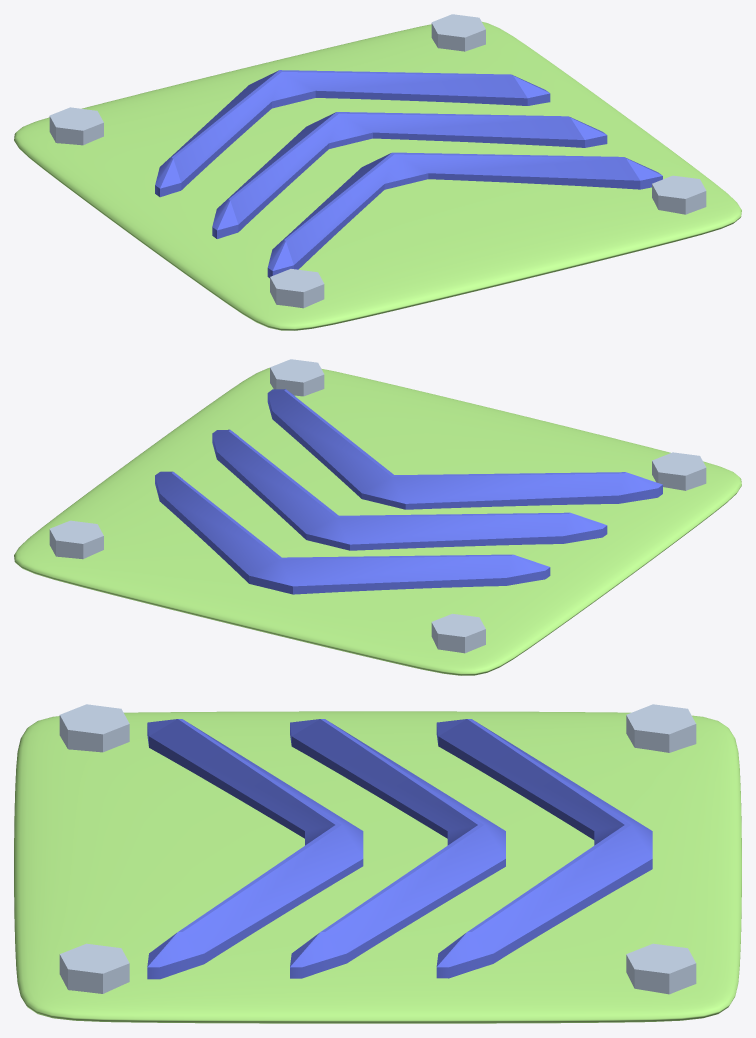
The model's file is BoostPad.fbx.
3 renders of one model, top to bottom at view 1: azimuth 30°, elevation 25°; view 2: azimuth 150°, elevation 25°; view 3: azimuth 270°, elevation 25°, orthographic. The views are drawn at different scales.
Parts seen in each view (by area): view 1: BoostPad, Cube.003, Cube.002, Cube.001, Nut0.004, Nut0.003, Nut0.001, Nut0.002; view 2: BoostPad, Cube.003, Cube.002, Cube.001, Nut0.001, Nut0.002, Nut0.004, Nut0.003; view 3: BoostPad, Cube.003, Cube.002, Cube.001, Nut0.003, Nut0.002, Nut0.001, Nut0.004.
Part boxes in pixels (x1,y1,x2,y2): BoostPad: (14, 22, 741, 330); Cube.003: (155, 70, 550, 197); Cube.002: (267, 152, 662, 278); Cube.001: (212, 112, 607, 238); Nut0.004: (270, 269, 324, 308); Nut0.003: (652, 175, 706, 214); Nut0.001: (49, 107, 103, 145); Nut0.002: (431, 14, 485, 51); BoostPad: (14, 367, 741, 675); Cube.003: (155, 471, 550, 594); Cube.002: (267, 389, 662, 509); Cube.001: (212, 429, 607, 550); Nut0.001: (431, 613, 485, 653); Nut0.002: (49, 520, 103, 559); Nut0.004: (652, 452, 706, 490); Nut0.003: (270, 359, 324, 396); BoostPad: (14, 711, 741, 1023); Cube.003: (436, 719, 652, 978); Cube.002: (147, 719, 363, 979); Cube.001: (290, 719, 505, 978); Nut0.003: (59, 943, 129, 993); Nut0.002: (626, 943, 696, 994); Nut0.001: (626, 704, 696, 752); Nut0.004: (59, 704, 129, 752).
Size of the model in its own units: 199 by 17.45 by 199.
